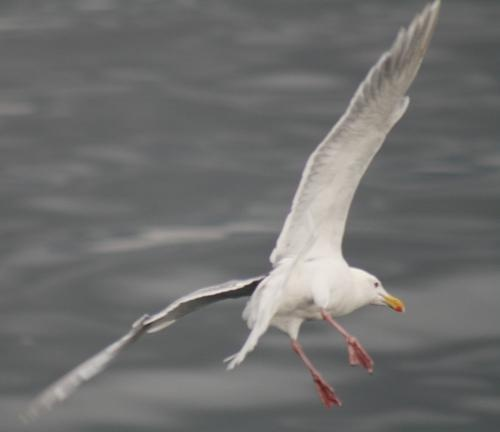bird: (10, 1, 447, 426)
